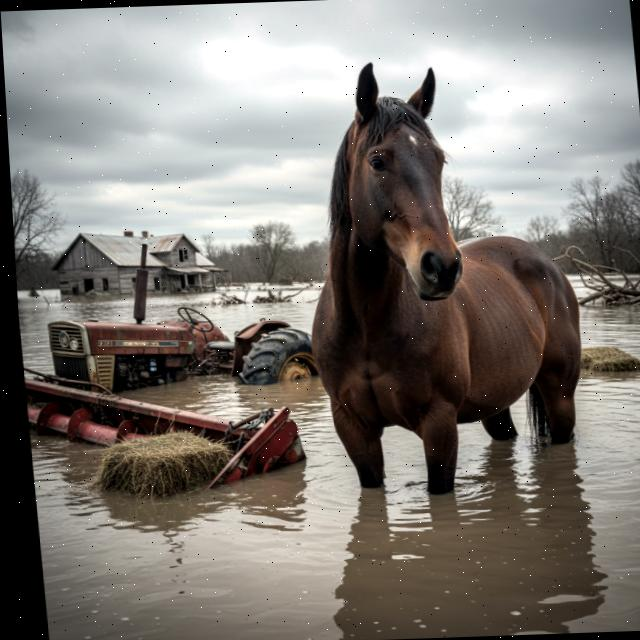horse: (279, 40, 618, 522)
